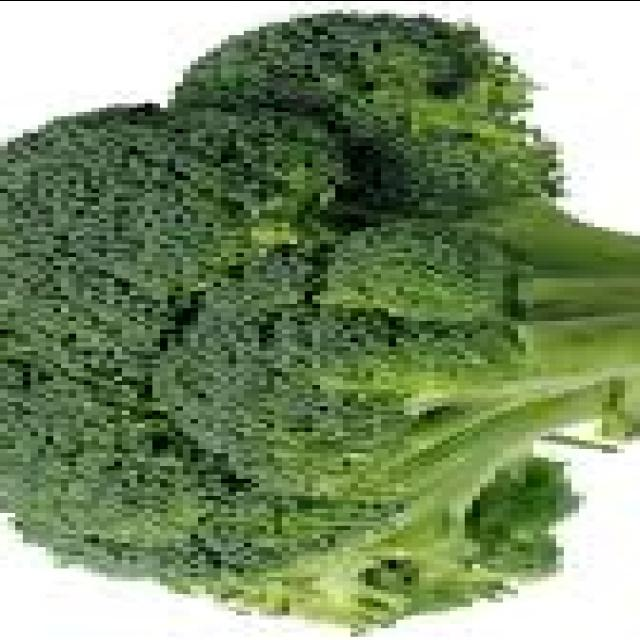broccoli: (0, 4, 640, 636)
